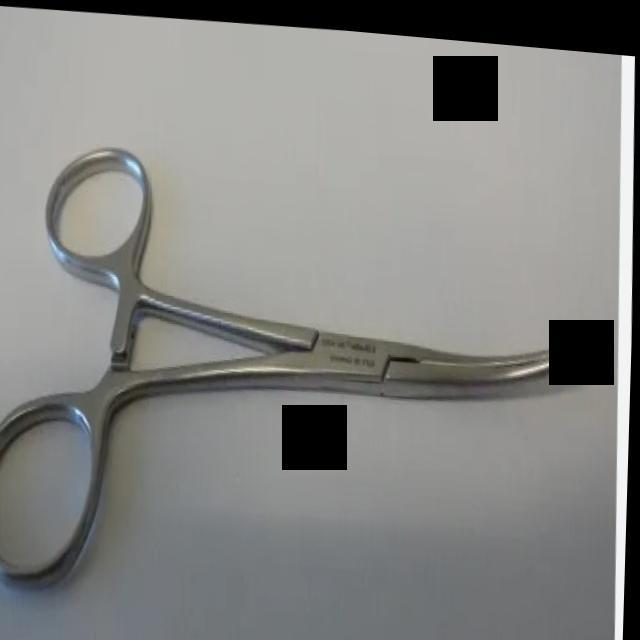Doyel Instestinal Forceps: (0, 116, 621, 631)
